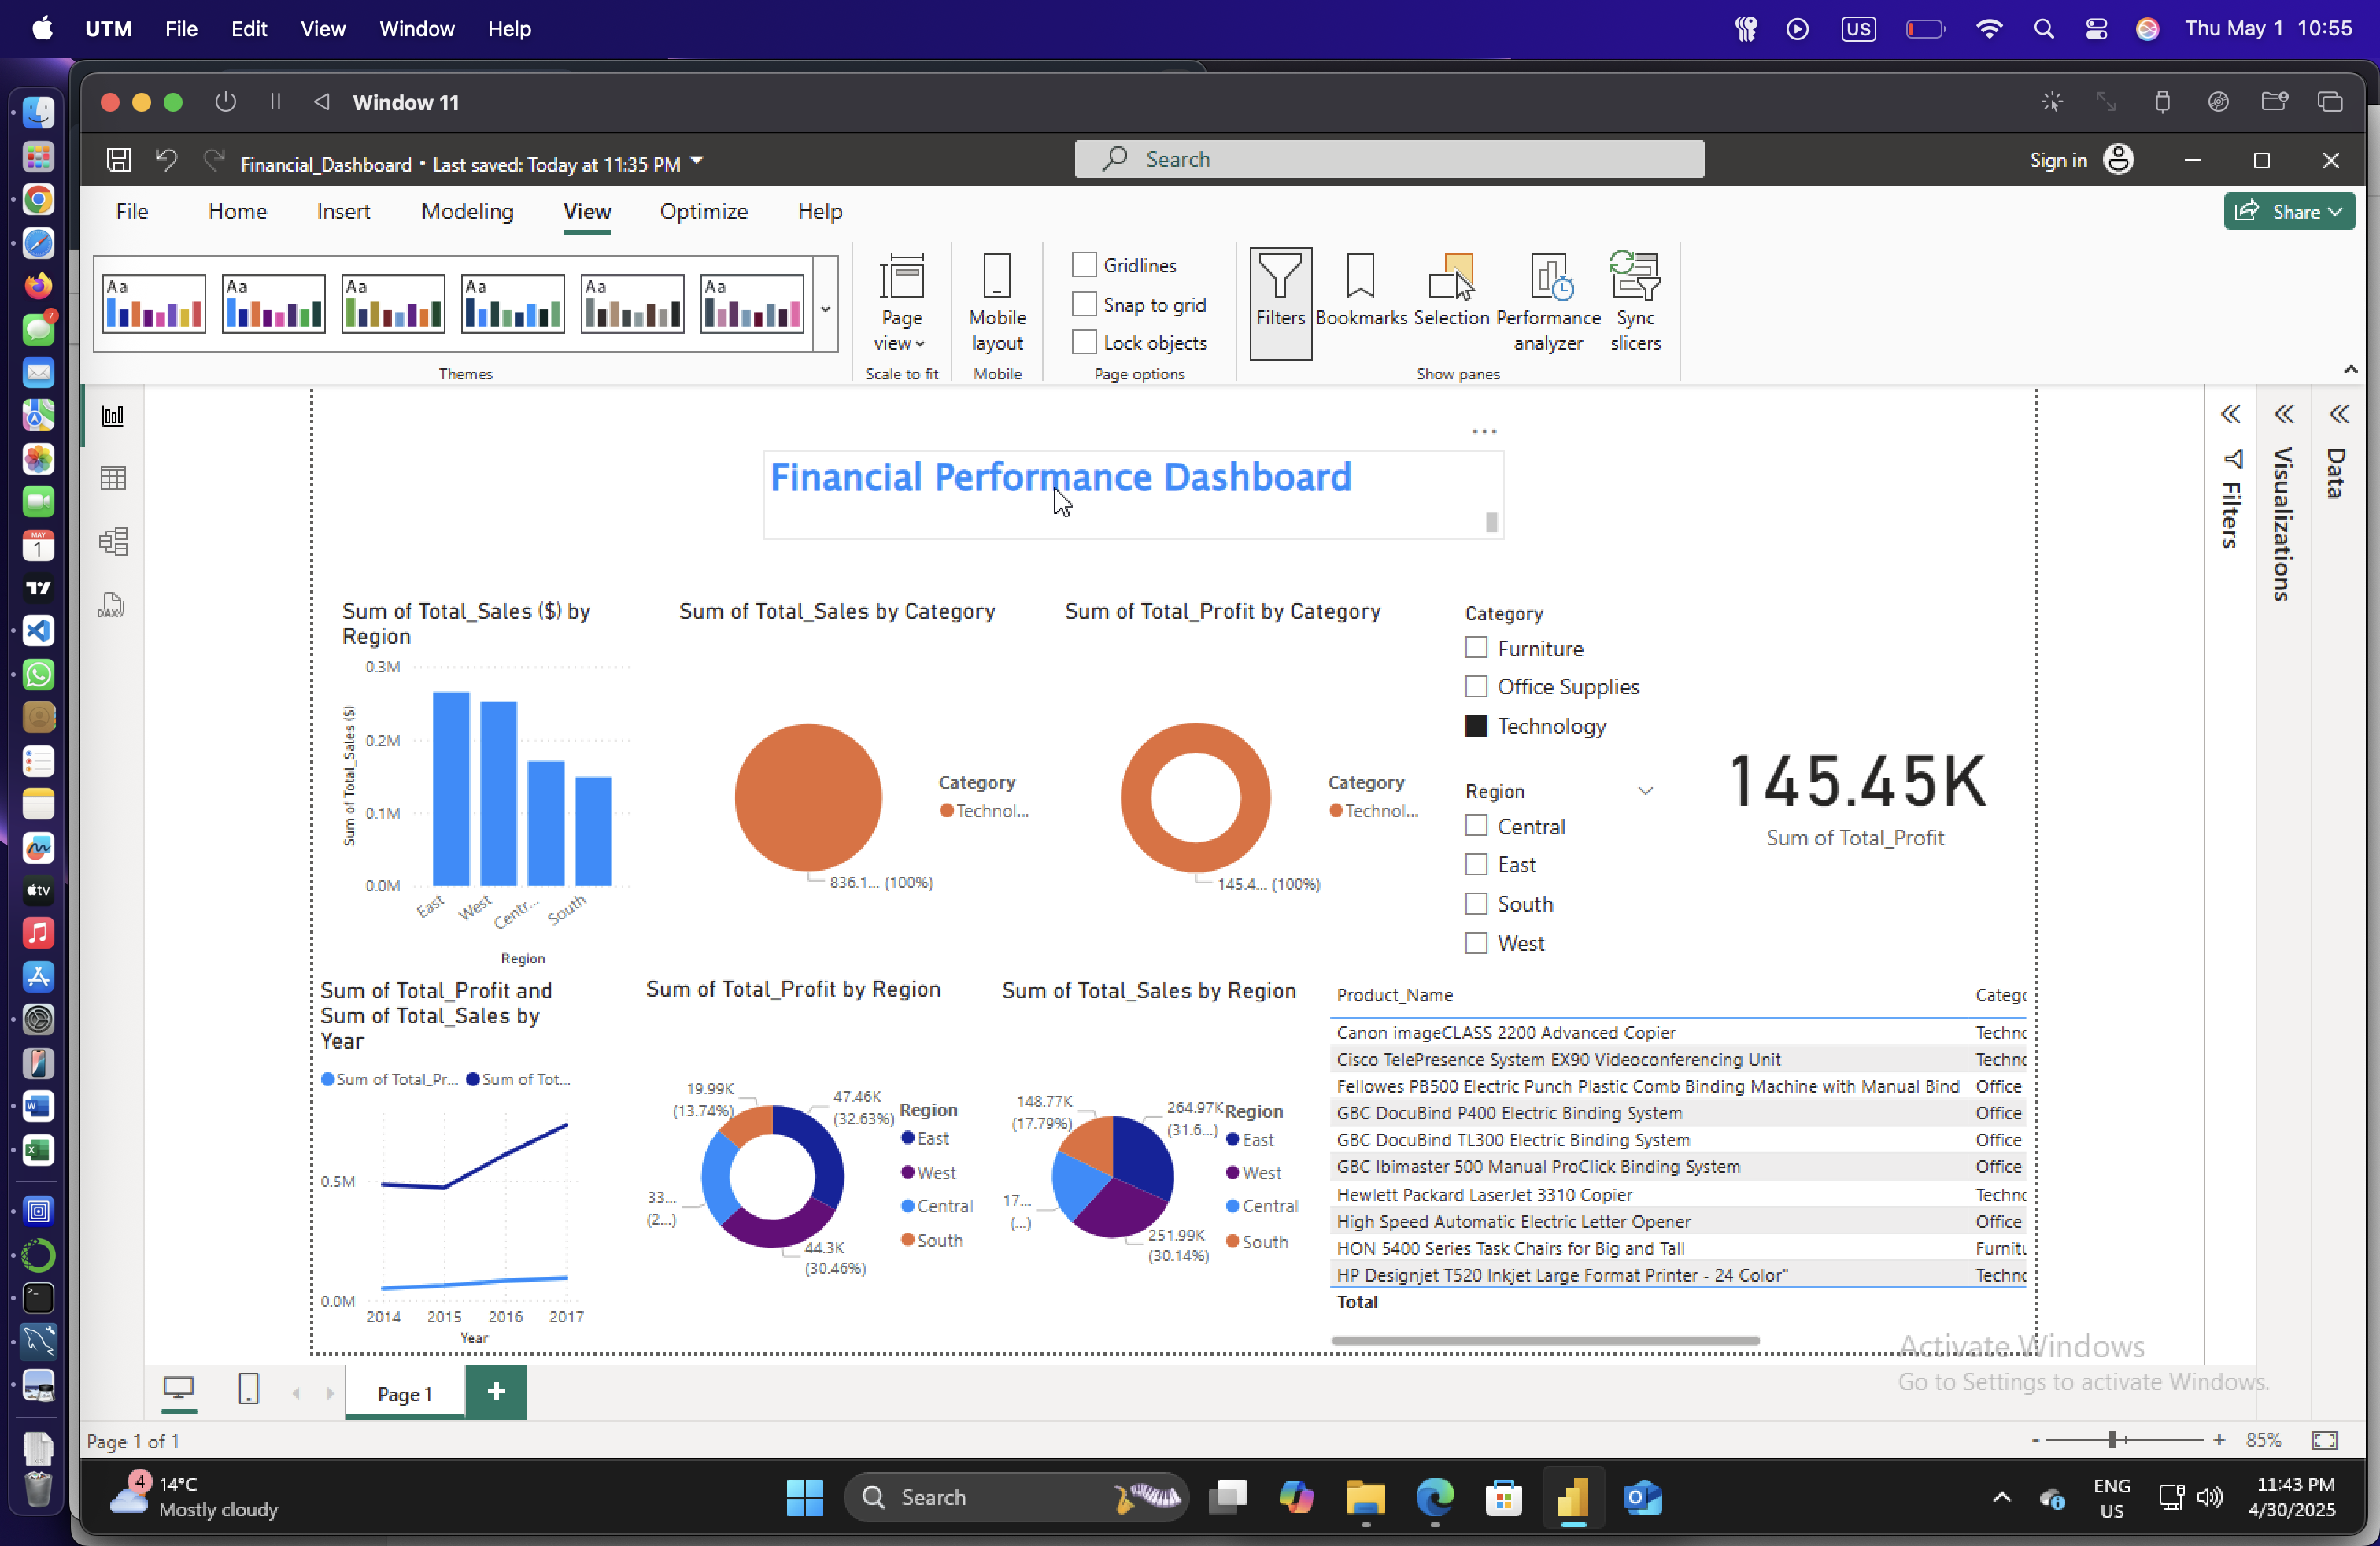

Layout of this report page (visuals, bound fields, positions):
{"tool":"powerbi","page":{"name":"Page 1","canvas":[1280,720],"ordinal":0},"visuals":[{"type":"columnChart","fields":{"Category":["sales_by_region c.Region"],"Y":["Sum(sales_by_region c.Total_Sales)"]},"box":[16.6,158.3,226.1,280.4],"z":0},{"type":"lineChart","fields":{"Category":["monthly_trends.Order_Month.Variation.Date Hierarchy.Year","monthly_trends.Order_Month.Variation.Date Hierarchy.Quarter","monthly_trends.Order_Month.Variation.Date Hierarchy.Month","monthly_trends.Order_Month.Variation.Date Hierarchy.Day"],"Y":["Sum(monthly_trends.Total_Profit)","Sum(monthly_trends.Total_Sales)"]},"box":[0,440.2,206.5,280.4],"z":1000},{"type":"pieChart","fields":{"Category":["sales_by_region c.Category"],"Y":["Sum(sales_by_region c.Total_Sales)"]},"box":[266.9,158.3,286.5,280.4],"z":2000},{"type":"donutChart","fields":{"Category":["sales_by_region c.Region"],"Y":["Sum(sales_by_region c.Total_Profit)"]},"box":[242.7,438.7,263.8,281.9],"z":3000},{"type":"card","fields":{"Values":["Sum(sales_by_region c.Total_Profit)"]},"box":[1039.6,158,215.4,281],"z":4000},{"type":"tableEx","fields":{"Values":["top_products_cleaned.Product_Name","top_products_cleaned.Category","Sum(top_products_cleaned.Total_Sales)","Sum(top_products_cleaned.Total_Quantity)"]},"box":[750.8,438.7,529.2,281.9],"z":5000},{"type":"donutChart","fields":{"Category":["sales_by_region c.Category"],"Y":["Sum(sales_by_region c.Total_Profit)"]},"box":[553.3,158.3,291,280.4],"z":6000},{"type":"pieChart","fields":{"Category":["sales_by_region c.Region"],"Y":["Sum(sales_by_region c.Total_Sales)"]},"box":[506.6,440.2,241.2,280.4],"z":7000},{"type":"slicer","fields":{"Values":["sales_by_region c.Category"]},"box":[844,158,208,153],"z":8000},{"type":"textbox","title":"Financial Performance Dashboard","box":[335.1,49.4,551.2,66.4],"z":9001},{"type":"slicer","fields":{"Values":["sales_by_region c.Region"]},"box":[844,290,166,150],"z":9002}]}

Visuals, with their boxes on the page's 1280x720 design canvas (x1, y1, x2, y2). These are canvas units, not pixel positions in the 2380x1546 screenshot, which may show the page scaled, cropped or inside an application window:
columnChart - sales_by_region c.Region x Sum(sales_by_region c.Total_Sales): (x1=17, y1=158, x2=243, y2=439)
lineChart - monthly_trends.Order_Month.Variation.Date Hierarchy.Year x monthly_trends.Order_Month.Variation.Date Hierarchy.Quarter: (x1=0, y1=440, x2=206, y2=721)
pieChart - sales_by_region c.Category x Sum(sales_by_region c.Total_Sales): (x1=267, y1=158, x2=553, y2=439)
donutChart - sales_by_region c.Region x Sum(sales_by_region c.Total_Profit): (x1=243, y1=439, x2=506, y2=721)
card - Sum(sales_by_region c.Total_Profit): (x1=1040, y1=158, x2=1255, y2=439)
tableEx - top_products_cleaned.Product_Name x top_products_cleaned.Category: (x1=751, y1=439, x2=1280, y2=721)
donutChart - sales_by_region c.Category x Sum(sales_by_region c.Total_Profit): (x1=553, y1=158, x2=844, y2=439)
pieChart - sales_by_region c.Region x Sum(sales_by_region c.Total_Sales): (x1=507, y1=440, x2=748, y2=721)
slicer - sales_by_region c.Category: (x1=844, y1=158, x2=1052, y2=311)
"Financial Performance Dashboard" textbox: (x1=335, y1=49, x2=886, y2=116)
slicer - sales_by_region c.Region: (x1=844, y1=290, x2=1010, y2=440)
